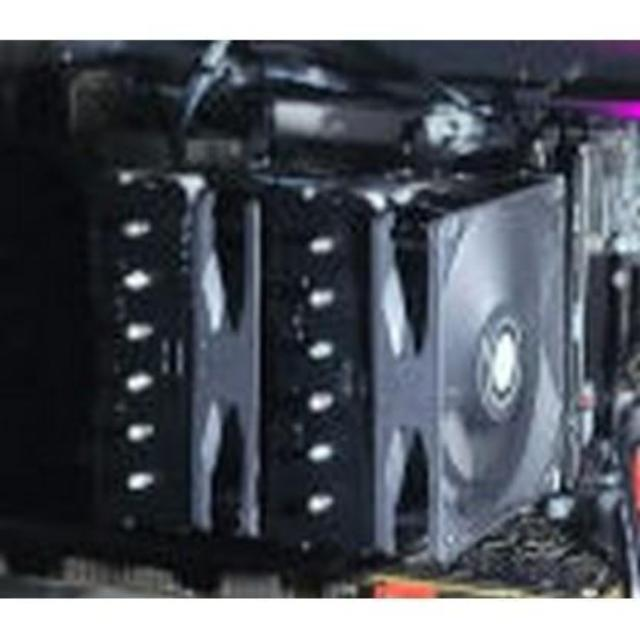CPU_Fan: (89, 147, 566, 556)
